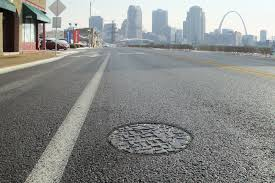Manhole-Closed: (100, 111, 226, 162)
